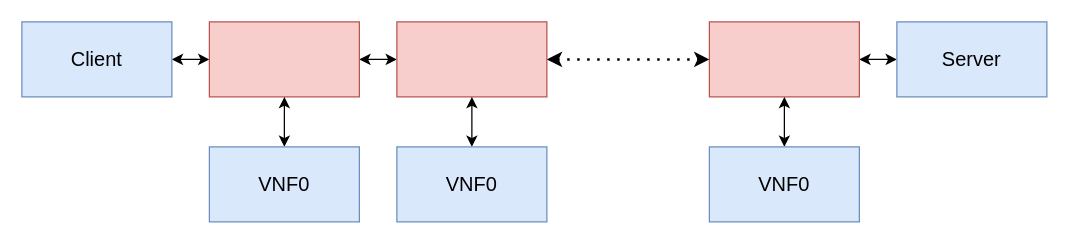
Some shapes in this 1069 by 244 pixel diagram are drawn without their labels. Each missing label, with the centre of its shape:
"Switch S0" goes at point (283, 59).
"Switch S1" goes at point (471, 59).
"Switch SN" goes at point (783, 59).
